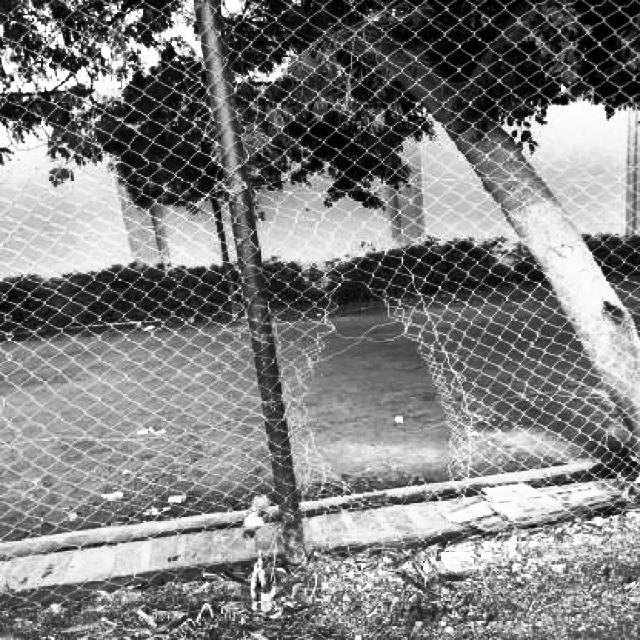anomaly-fence: (269, 264, 520, 530)
